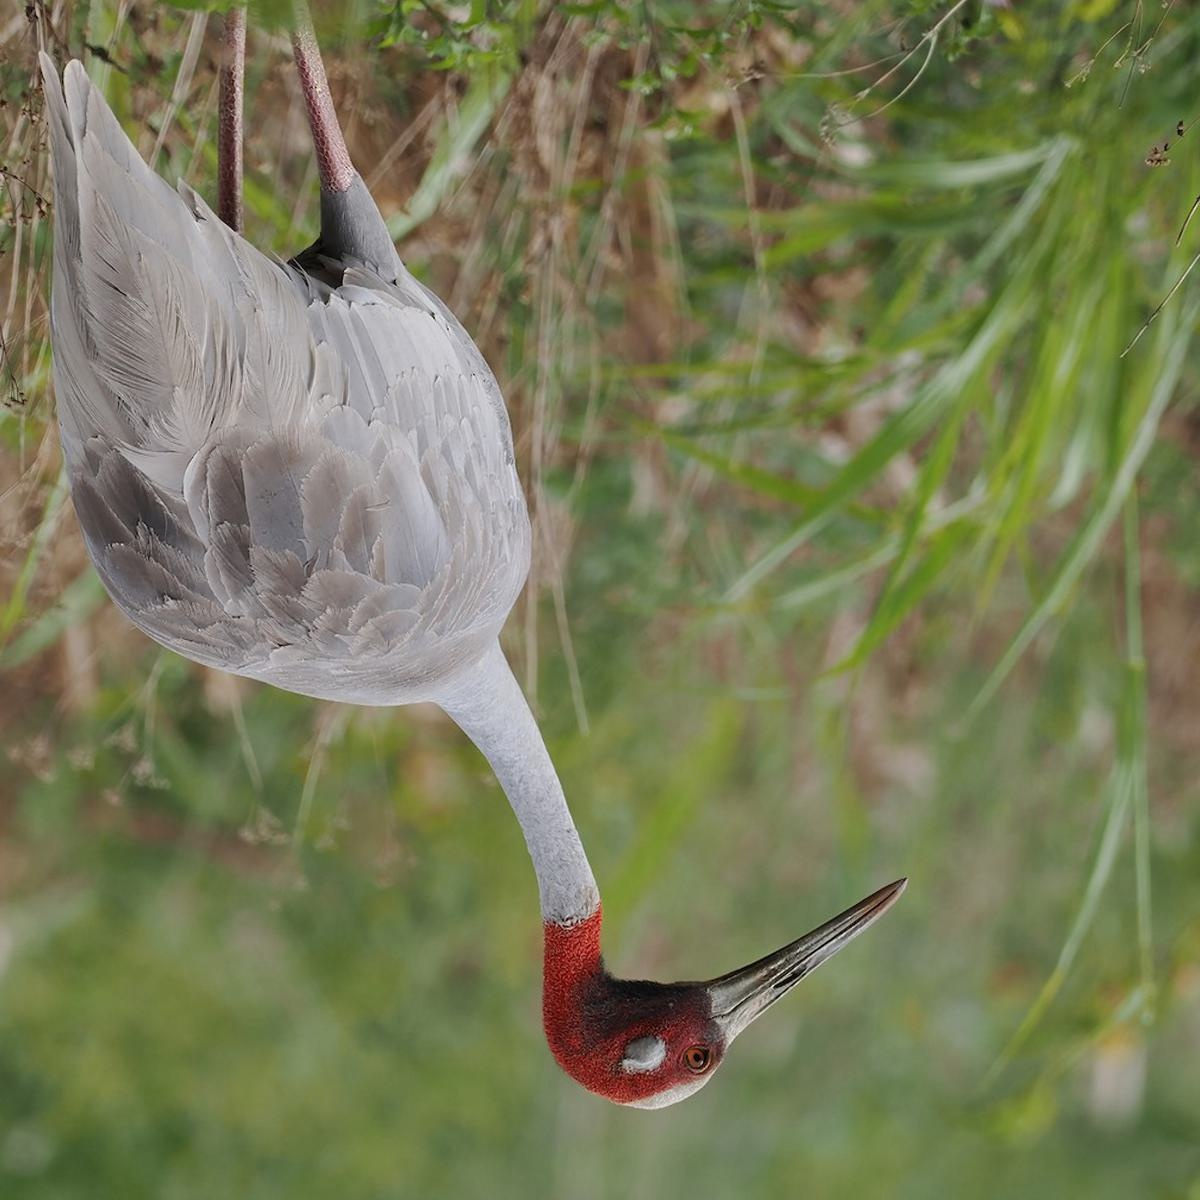crane: (1, 1, 922, 1124)
